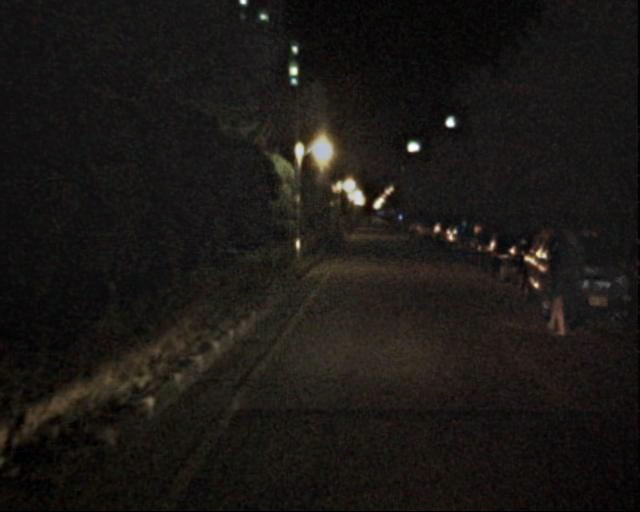person: (549, 226, 592, 332), (537, 244, 573, 333)
